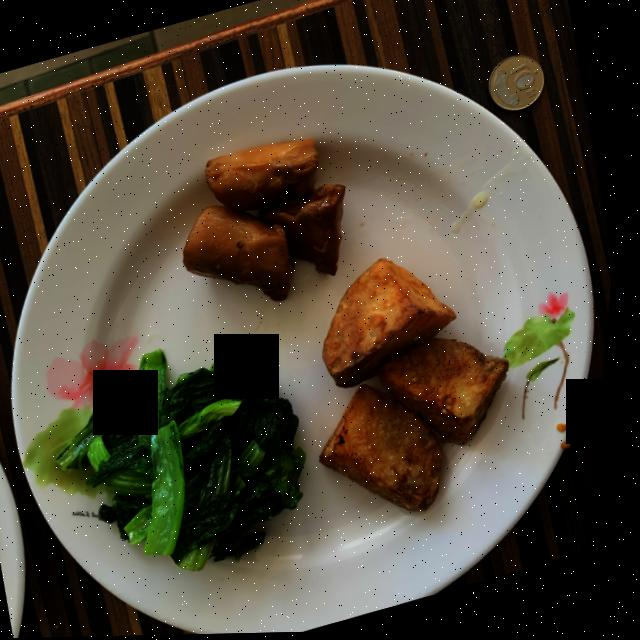coin: (490, 57, 546, 113)
fried potato: (329, 260, 517, 513)
mustard greens: (67, 351, 313, 571)
